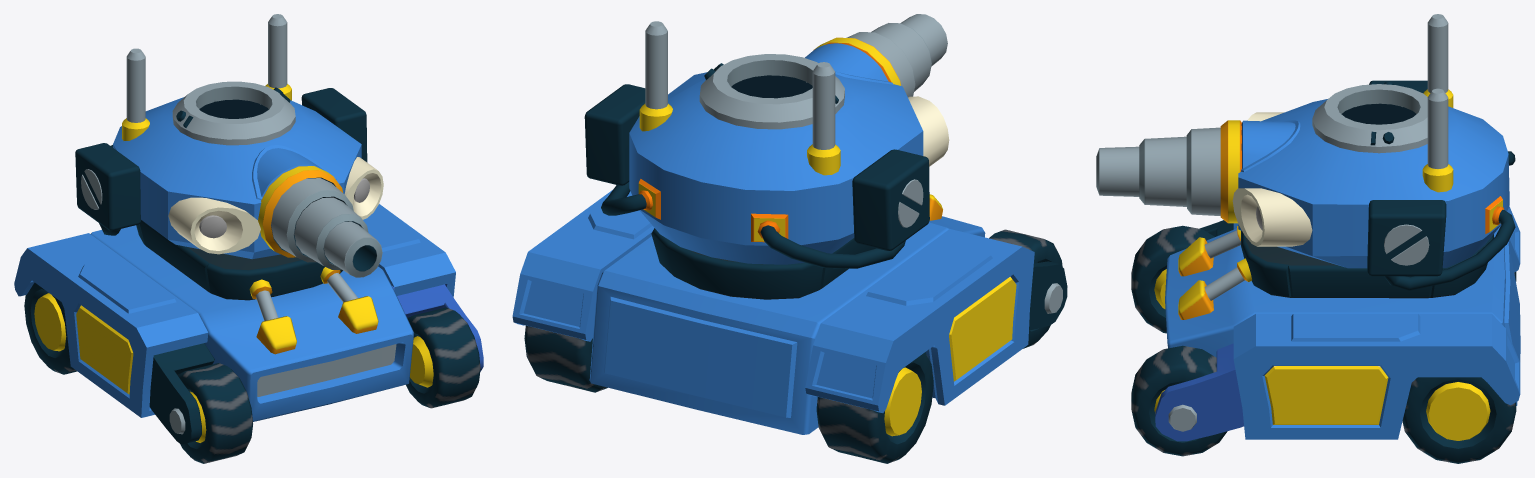
The model's file is TA_Scout_01.fbx.
3 renders of one model, left to right at view 1: azimuth 30°, elevation 25°; view 2: azimuth 150°, elevation 25°; view 3: azimuth 270°, elevation 25°, orthographic. The views are drawn at different scales.
Visible parts, largest first — view 1: TA_Scout_01_Turret_Armor, TA_Scout_01_Body, TA_Scout_01_Wheel_Armor, TA_Scout_01_Turret_Cannon, TA_Scout_01_Wheel_F_L, TA_Scout_01_Wheel_F_R, TA_Scout_01_Wheel_B_R; view 2: TA_Scout_01_Turret_Armor, TA_Scout_01_Wheel_Armor, TA_Scout_01_Body, TA_Scout_01_Wheel_B_R, TA_Scout_01_Turret_Cannon, TA_Scout_01_Wheel_B_L, TA_Scout_01_Wheel_F_R; view 3: TA_Scout_01_Turret_Armor, TA_Scout_01_Wheel_Armor, TA_Scout_01_Body, TA_Scout_01_Turret_Cannon, TA_Scout_01_Wheel_B_L, TA_Scout_01_Wheel_F_L, TA_Scout_01_Wheel_F_R.
Part boxes in pixels (left/top/right/bottom): TA_Scout_01_Turret_Armor: left=75, top=14, right=383, bottom=259; TA_Scout_01_Body: left=90, top=220, right=413, bottom=421; TA_Scout_01_Wheel_Armor: left=14, top=204, right=483, bottom=444; TA_Scout_01_Turret_Cannon: left=258, top=166, right=382, bottom=277; TA_Scout_01_Wheel_F_L: left=406, top=307, right=480, bottom=408; TA_Scout_01_Wheel_F_R: left=178, top=363, right=252, bottom=463; TA_Scout_01_Wheel_B_R: left=24, top=282, right=77, bottom=374; TA_Scout_01_Turret_Armor: left=584, top=21, right=949, bottom=268; TA_Scout_01_Wheel_Armor: left=512, top=190, right=1067, bottom=412; TA_Scout_01_Body: left=589, top=194, right=985, bottom=434; TA_Scout_01_Wheel_B_R: left=816, top=352, right=933, bottom=463; TA_Scout_01_Turret_Cannon: left=813, top=14, right=947, bottom=97; TA_Scout_01_Wheel_B_L: left=524, top=325, right=607, bottom=392; TA_Scout_01_Wheel_F_R: left=989, top=229, right=1062, bottom=348; TA_Scout_01_Turret_Armor: left=1232, top=14, right=1515, bottom=290; TA_Scout_01_Wheel_Armor: left=1155, top=206, right=1520, bottom=441; TA_Scout_01_Body: left=1165, top=225, right=1520, bottom=405; TA_Scout_01_Turret_Cannon: left=1096, top=120, right=1241, bottom=223; TA_Scout_01_Wheel_B_L: left=1402, top=377, right=1516, bottom=463; TA_Scout_01_Wheel_F_L: left=1131, top=345, right=1227, bottom=456; TA_Scout_01_Wheel_F_R: left=1131, top=225, right=1214, bottom=333.
Size of the model in its own units: 200 by 191 by 220.
